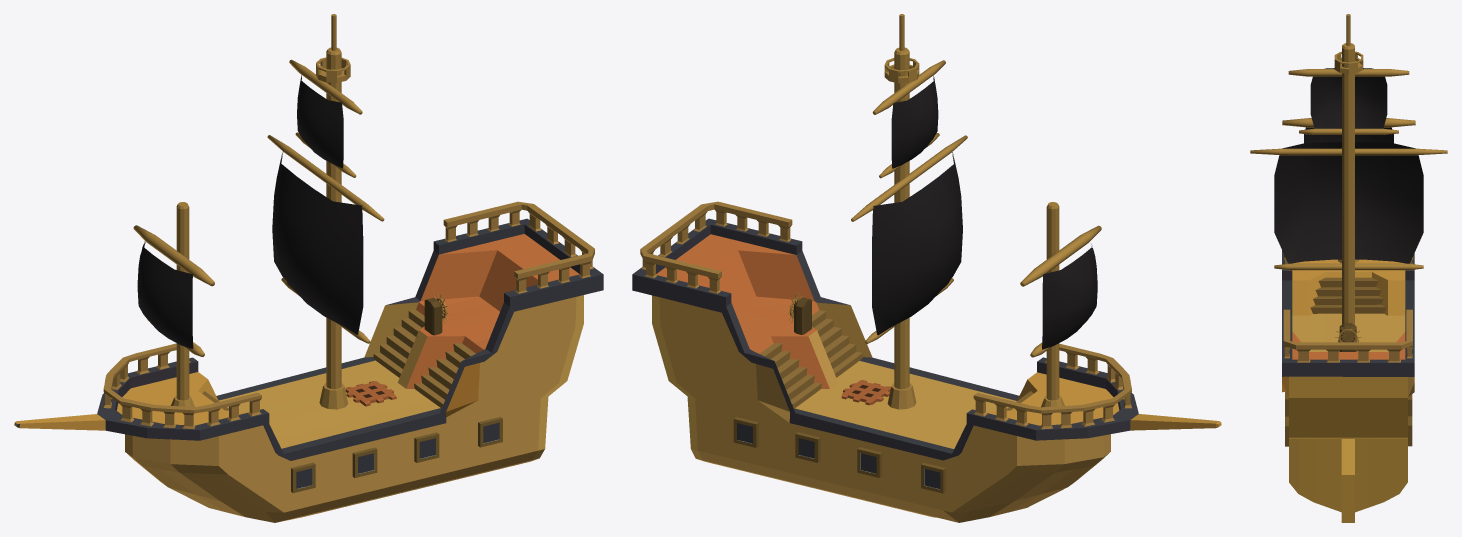
File: PirateShip.fbx
3 renders of one model, left to right at view 1: azimuth 30°, elevation 25°; view 2: azimuth 150°, elevation 25°; view 3: azimuth 270°, elevation 25°, orthographic. The views are drawn at different scales.
Visible parts, largest first — view 1: PirateShip; view 2: PirateShip; view 3: PirateShip.
Part boxes in pixels (x1,y1,x2,y2): PirateShip: (14,14,603,522); PirateShip: (632,14,1221,522); PirateShip: (1250,14,1447,522).
Size of the model in its own units: 2442 by 2065 by 874.
